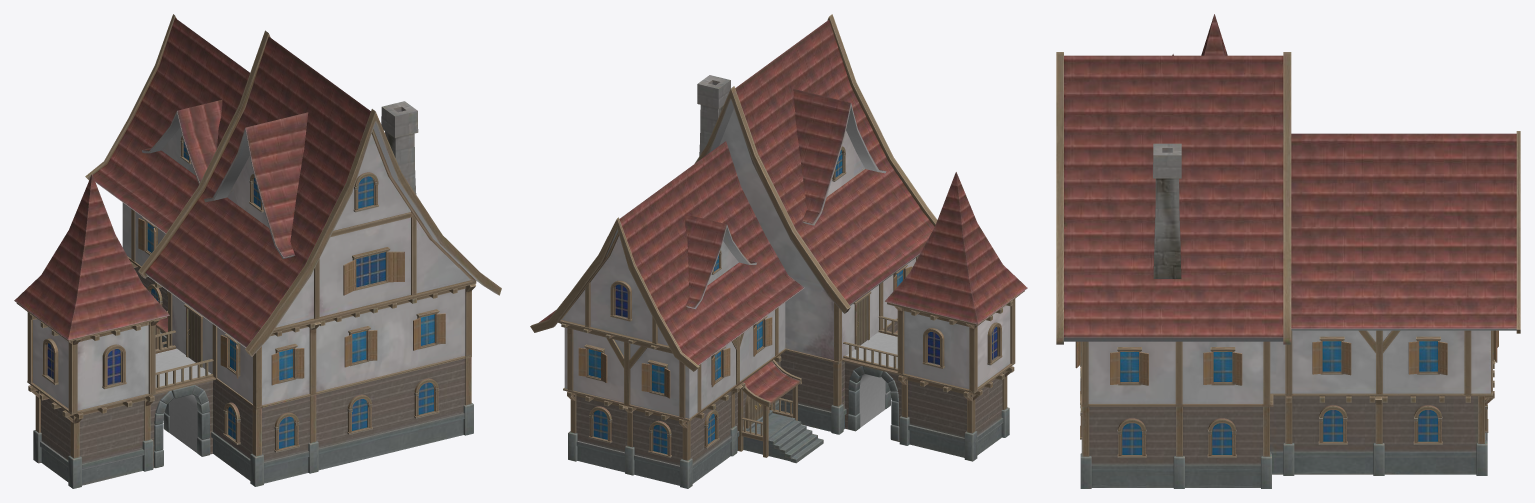
Rendered from casa_estilizada.glb.
3 renders of one model, left to right at view 1: azimuth 30°, elevation 25°; view 2: azimuth 150°, elevation 25°; view 3: azimuth 270°, elevation 25°, orthographic. The views are drawn at different scales.
Visible parts, largest first — view 1: SM_House; view 2: SM_House; view 3: SM_House.
Part boxes in pixels (x1,y1,x2,y2): SM_House: [14, 14, 501, 488]; SM_House: [530, 14, 1027, 488]; SM_House: [1056, 14, 1520, 488].
Bounding box in the file's own units: 15.4 × 13.63 × 15.09.
1 material, 1 textured.
